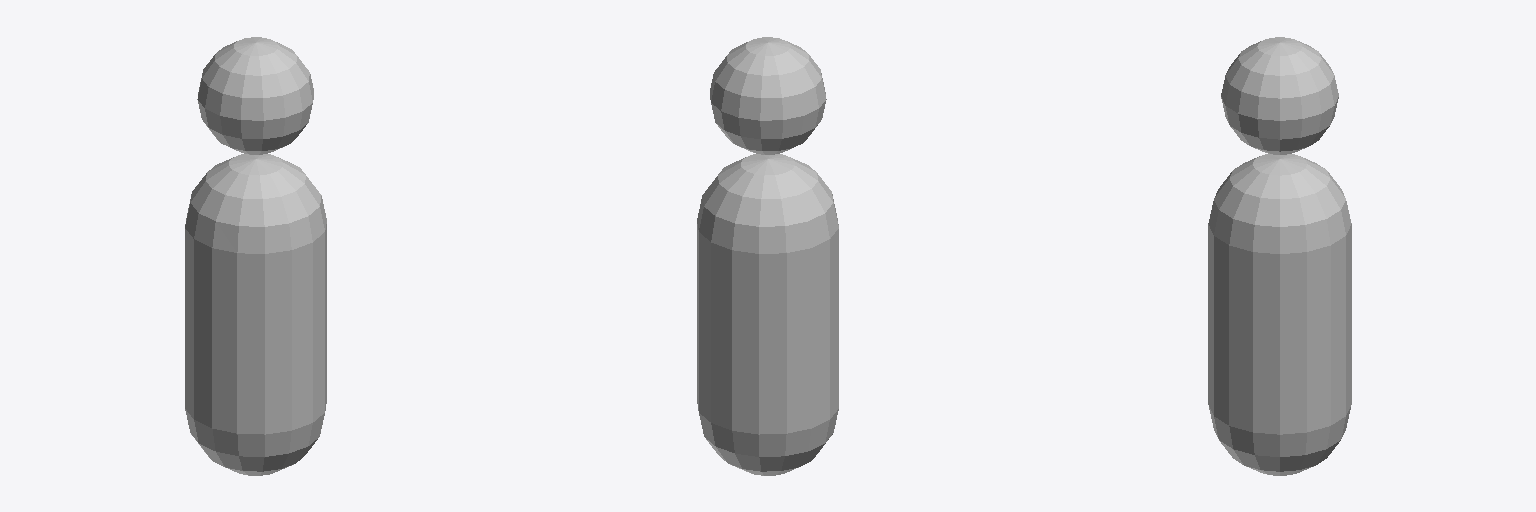
Rendered from person.obj.
3 renders of one model, left to right at view 1: azimuth 30°, elevation 25°; view 2: azimuth 150°, elevation 25°; view 3: azimuth 270°, elevation 25°, orthographic.
Parts seen in each view (by area): view 1: Sphere.001, Sphere; view 2: Sphere.001, Sphere; view 3: Sphere.001, Sphere.
Part boxes in pixels (bbox=[...]): Sphere.001: bbox=[185, 154, 326, 475]; Sphere: bbox=[197, 37, 313, 154]; Sphere.001: bbox=[697, 154, 838, 475]; Sphere: bbox=[710, 37, 826, 154]; Sphere.001: bbox=[1208, 154, 1351, 475]; Sphere: bbox=[1221, 37, 1338, 154].
Bounding box in the file's own units: 0.5251 × 1.73 × 0.5251.